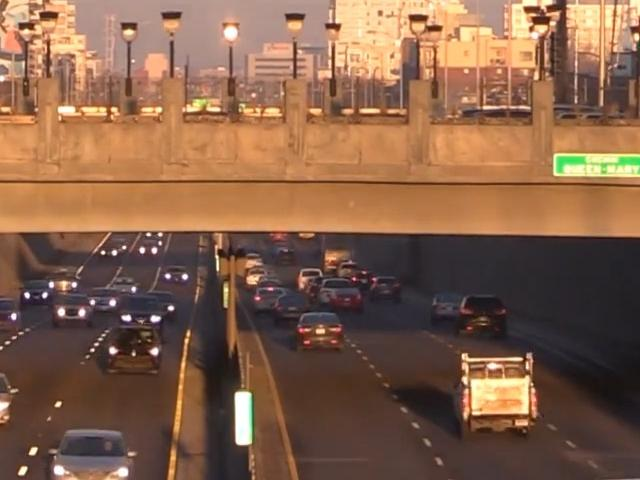car: (47, 427, 136, 480), (107, 329, 164, 375), (115, 292, 177, 331), (456, 296, 509, 336), (297, 312, 348, 351), (271, 294, 313, 327), (319, 283, 364, 313), (49, 297, 92, 327), (87, 289, 123, 319), (432, 290, 462, 325), (338, 264, 375, 292), (460, 105, 529, 120), (252, 284, 289, 309), (102, 276, 141, 299), (370, 276, 404, 302), (0, 372, 16, 427), (21, 278, 53, 305), (323, 246, 353, 273), (0, 293, 19, 335), (296, 267, 324, 295), (248, 267, 278, 291), (47, 274, 82, 294), (553, 106, 603, 120), (160, 267, 191, 287), (136, 236, 163, 257), (295, 232, 321, 250), (272, 245, 295, 263), (106, 241, 129, 258), (235, 247, 259, 263), (268, 231, 290, 244)
pickup-truck: (451, 352, 538, 438)
